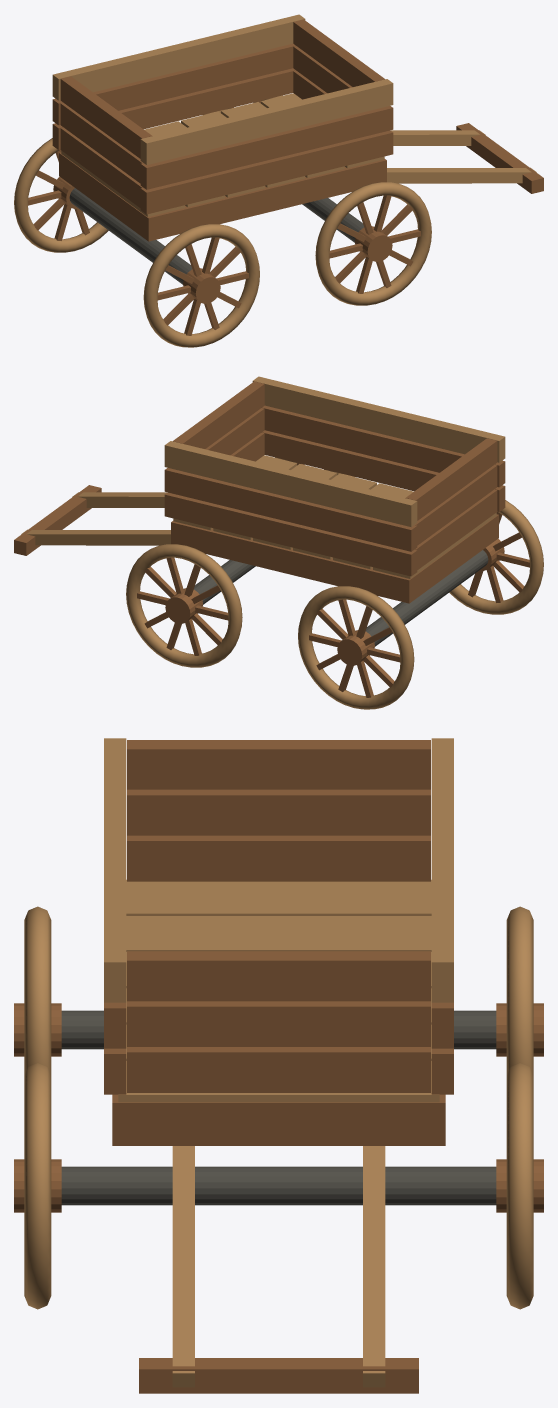
The model's file is carroca.glb.
3 renders of one model, top to bottom at view 1: azimuth 30°, elevation 25°; view 2: azimuth 150°, elevation 25°; view 3: azimuth 270°, elevation 25°, orthographic. The views are drawn at different scales.
Visible parts, largest first — view 1: Carroça | plataforma, Carroça | lateral -0.55 2, Carroça | lateral 0.55 2, Carroça | lateral -0.55 0, Carroça | lateral -0.55 1, Carroça | lateral 0.55 1, Carroça | aro da roda.002, Carroça | aro da roda, Carroça | lateral 0.55 0, Carroça | aro da roda.001, Carroça | frente/fundo -0.84 2, Carroça | frente/fundo 0.84 2 (+16 smaller); view 2: Carroça | plataforma, Carroça | lateral 0.55 2, Carroça | lateral -0.55 2, Carroça | lateral 0.55 0, Carroça | lateral 0.55 1, Carroça | lateral -0.55 1, Carroça | aro da roda.003, Carroça | aro da roda.001, Carroça | lateral -0.55 0, Carroça | aro da roda, Carroça | frente/fundo -0.84 2, Carroça | frente/fundo 0.84 2 (+16 smaller); view 3: Carroça | eixo transversal.001, Carroça | frente/fundo 0.84 2, Carroça | frente/fundo -0.84 2, Carroça | plataforma, Carroça | frente/fundo -0.84 0, Carroça | frente/fundo -0.84 1, Carroça | frente/fundo 0.84 0, Carroça | frente/fundo 0.84 1, Carroça | assoalho 2, Carroça | assoalho 1, Carroça | jugo, Carroça | aro da roda.002 (+17 smaller).
Boxes of the visible parts, box(x1,y1,x2,y2) form: Carroça | plataforma: box(59, 152, 386, 241); Carroça | lateral -0.55 2: box(140, 79, 393, 164); Carroça | lateral 0.55 2: box(52, 14, 305, 100); Carroça | lateral -0.55 0: box(140, 130, 393, 214); Carroça | lateral -0.55 1: box(140, 106, 393, 189); Carroça | lateral 0.55 1: box(52, 43, 295, 125); Carroça | aro da roda.002: box(315, 182, 431, 305); Carroça | aro da roda: box(143, 224, 259, 347); Carroça | lateral 0.55 0: box(52, 68, 295, 149); Carroça | aro da roda.001: box(14, 138, 108, 252); Carroça | frente/fundo -0.84 2: box(60, 76, 152, 158); Carroça | frente/fundo 0.84 2: box(293, 19, 384, 86); Carroça | plataforma: box(171, 514, 498, 603); Carroça | lateral 0.55 2: box(164, 441, 417, 526); Carroça | lateral -0.55 2: box(252, 376, 505, 462); Carroça | lateral 0.55 0: box(164, 492, 417, 576); Carroça | lateral 0.55 1: box(164, 468, 417, 551); Carroça | lateral -0.55 1: box(262, 405, 505, 487); Carroça | aro da roda.003: box(126, 544, 242, 667); Carroça | aro da roda.001: box(298, 586, 414, 709); Carroça | lateral -0.55 0: box(262, 430, 505, 511); Carroça | aro da roda: box(449, 500, 543, 614); Carroça | frente/fundo -0.84 2: box(405, 438, 497, 520); Carroça | frente/fundo 0.84 2: box(173, 381, 264, 448); Carroça | eixo transversal.001: box(61, 1166, 496, 1205); Carroça | frente/fundo 0.84 2: box(127, 951, 430, 1001); Carroça | frente/fundo -0.84 2: box(127, 740, 430, 789); Carroça | plataforma: box(112, 1094, 445, 1145); Carroça | frente/fundo -0.84 0: box(127, 835, 430, 881); Carroça | frente/fundo -0.84 1: box(127, 789, 430, 835); Carroça | frente/fundo 0.84 0: box(127, 1047, 430, 1092); Carroça | frente/fundo 0.84 1: box(127, 1001, 430, 1046); Carroça | assoalho 2: box(126, 916, 431, 951); Carroça | assoalho 1: box(126, 879, 431, 915); Carroça | jugo: box(139, 1358, 418, 1393); Carroça | aro da roda.002: box(24, 1062, 51, 1309).
Bounding box in the file's own units: 3.09 × 1.37 × 1.78.
